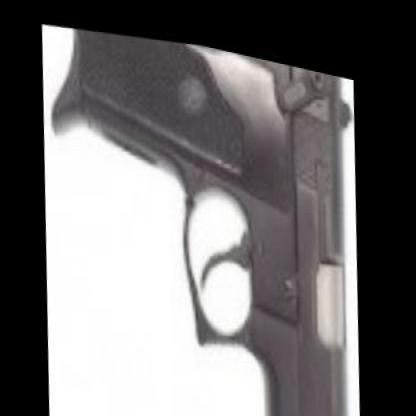pistol: (38, 8, 377, 415)
